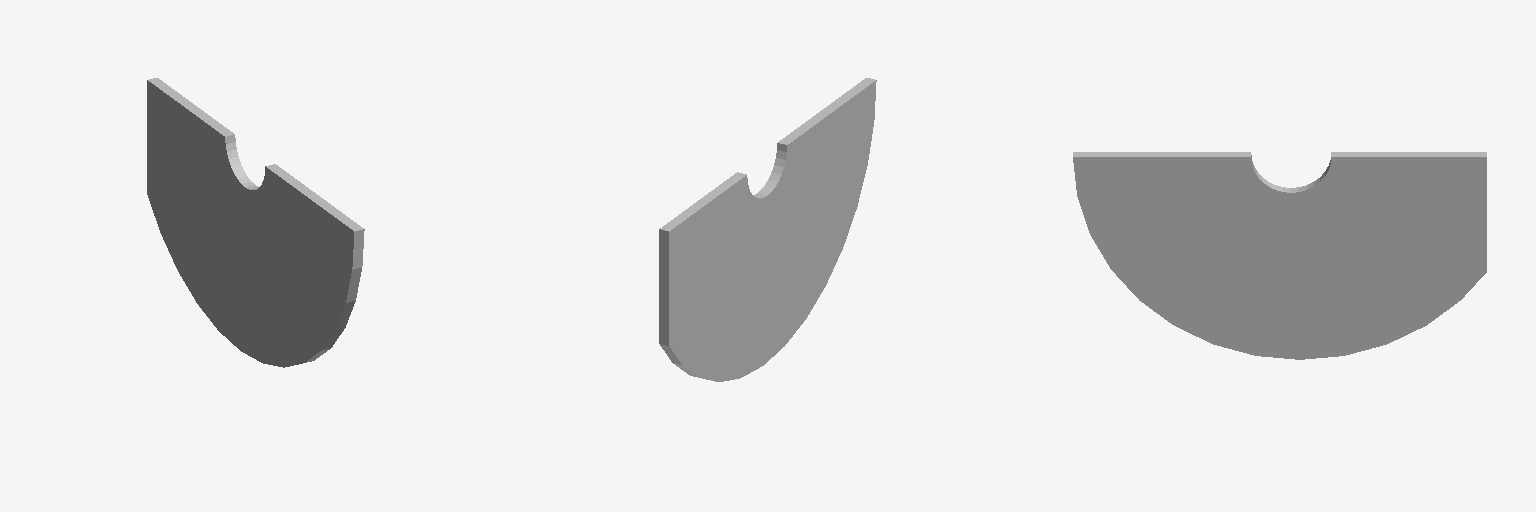
File: doorl.obj
3 renders of one model, left to right at view 1: azimuth 30°, elevation 25°; view 2: azimuth 150°, elevation 25°; view 3: azimuth 270°, elevation 25°, orthographic.
Visible parts, largest first — view 1: door.l_Cylinder.003; view 2: door.l_Cylinder.003; view 3: door.l_Cylinder.003.
Part boxes in pixels (bbox=[...]): door.l_Cylinder.003: bbox=[147, 78, 364, 367]; door.l_Cylinder.003: bbox=[659, 78, 876, 381]; door.l_Cylinder.003: bbox=[1073, 152, 1486, 359].
Size of the model in its own units: 0.0489 by 0.9377 by 1.74.